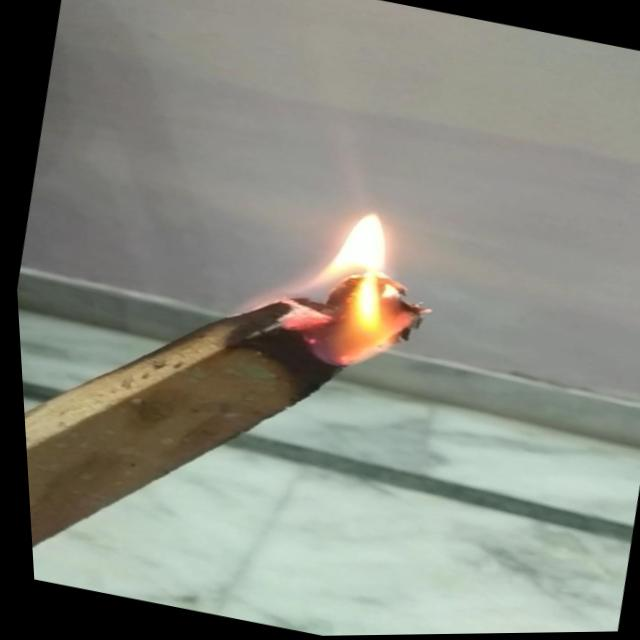fire: (214, 179, 475, 399)
